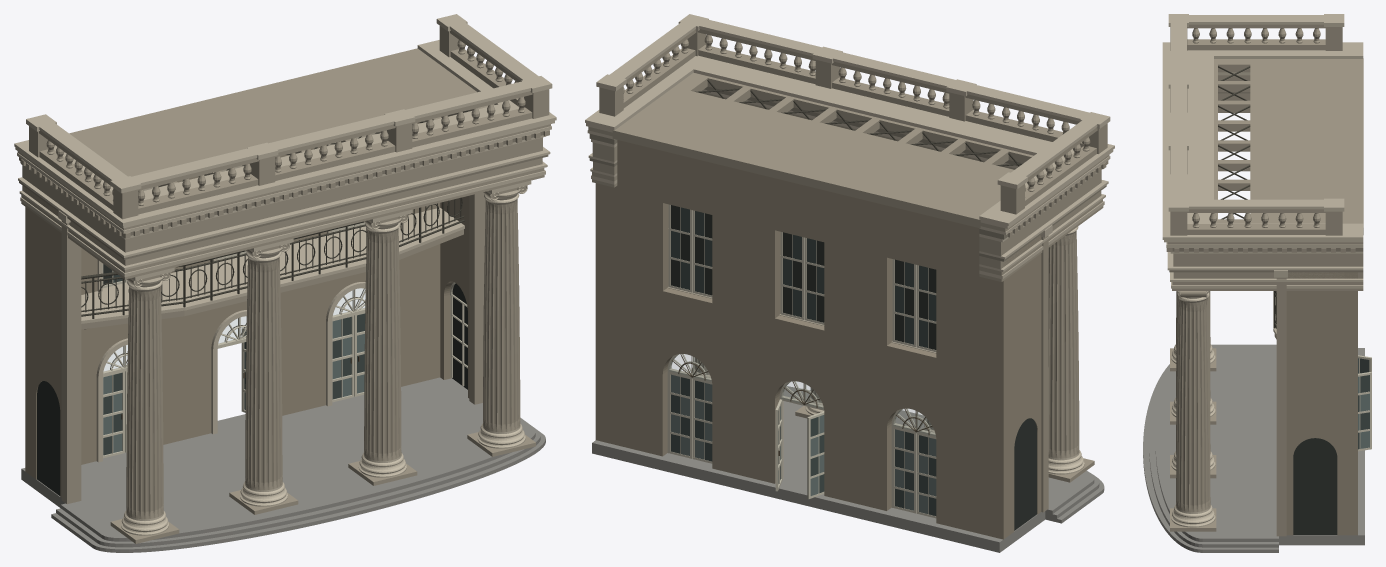
File: jingan-ho-tung-residence-garden-portico-web.glb
3 renders of one model, left to right at view 1: azimuth 30°, elevation 25°; view 2: azimuth 150°, elevation 25°; view 3: azimuth 270°, elevation 25°, orthographic. The views are drawn at different scales.
Parts seen in each view (by area): view 1: 何东上海公馆花园侧四柱门廊; view 2: 何东上海公馆花园侧四柱门廊; view 3: 何东上海公馆花园侧四柱门廊.
Boxes of the visible parts, box(x1,y1,x2,y2) form: 何东上海公馆花园侧四柱门廊: box(14, 14, 556, 552); 何东上海公馆花园侧四柱门廊: box(585, 14, 1114, 552); 何东上海公馆花园侧四柱门廊: box(1143, 14, 1371, 552).
Bounding box in the file's own units: 11.06 × 8.68 × 5.28.
